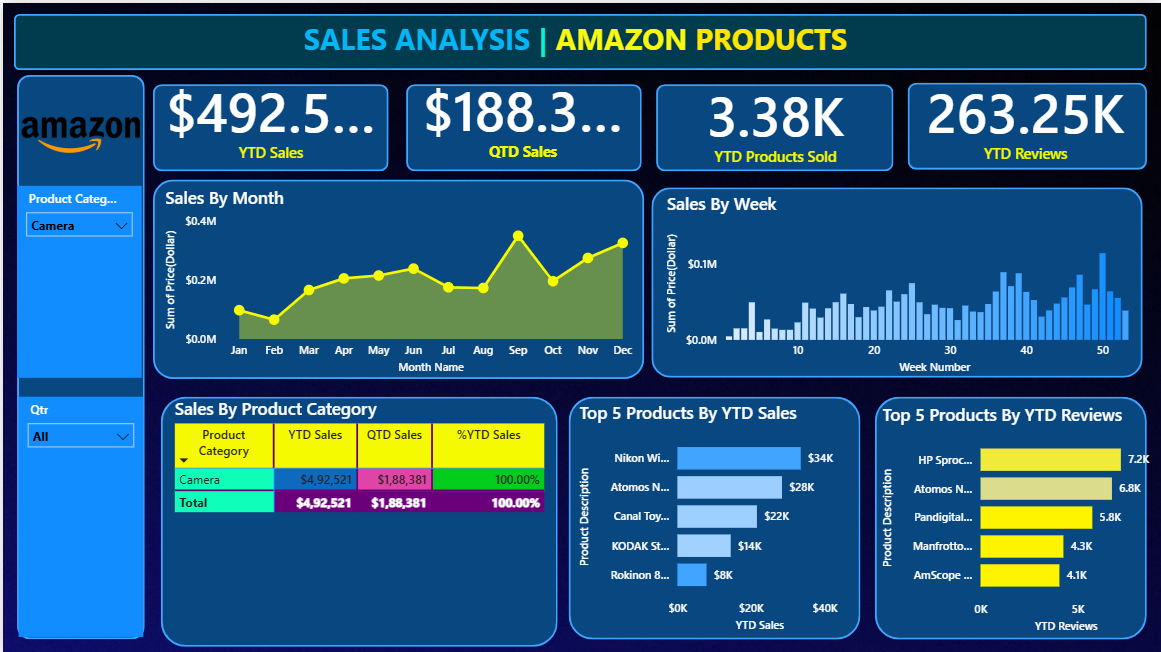

What the dashboard file says about the page in this screenshot:
{"tool":"powerbi","page":{"name":"Page 1","canvas":[1280,720],"ordinal":0},"visuals":[{"type":"shape","box":[12,12,1250,62],"z":0},{"type":"textbox","box":[15,12.5,1232.5,77.5],"z":1000},{"type":"shape","box":[15.3,79.8,140.9,622.9],"z":2000},{"type":"shape","box":[166,90,260,96],"z":3000},{"type":"card","fields":{"Values":["Amazon_Data.YTD Sales"]},"box":[166,68,260,118],"z":4000},{"type":"shape","box":[720,90,262,96],"z":5000},{"type":"shape","box":[444,90,260,96],"z":6000},{"type":"card","fields":{"Values":["Amazon_Data.QTD Sales"]},"box":[452,72,244,106],"z":7000},{"type":"shape","box":[998,88,264,96],"z":8000},{"type":"card","fields":{"Values":["Amazon_Data.YTD Products Sold"]},"box":[722,76,260,110],"z":9000},{"type":"card","fields":{"Values":["Amazon_Data.YTD Reviews"]},"box":[998,72,260,110],"z":10000},{"type":"shape","box":[166,194,542,220],"z":11000},{"type":"areaChart","title":"Sales By Month","fields":{"Category":["Date Table.Month Name"],"Y":["Sum(Amazon_Data.Price(Dollar))"]},"box":[174,202,530,212],"z":12000},{"type":"shape","box":[716,204,542,210],"z":13000},{"type":"columnChart","title":"Sales By Week","fields":{"Category":["Date Table.Week Number"],"Y":["Sum(Amazon_Data.Price(Dollar))"]},"box":[728,208,540,206],"z":14000},{"type":"shape","box":[174,434,438,276],"z":15000},{"type":"pivotTable","title":"Sales By Product Category ","fields":{"Rows":["Amazon_Data.Product Category"],"Values":["Amazon_Data.YTD Sales","Amazon_Data.QTD Sales","Amazon_Data.YTD Sales1"]},"box":[184,434,420,286],"z":16000},{"type":"shape","box":[624,434,322,268],"z":17000},{"type":"shape","box":[962,434,300,268],"z":18000},{"type":"clusteredBarChart","title":"Top 5 Products By YTD Sales","fields":{"Category":["Amazon_Data.Product Description"],"Y":["Amazon_Data.YTD Sales"]},"box":[631.2,439.1,314.1,259.4],"z":19000},{"type":"clusteredBarChart","title":"Top 5 Products By YTD Reviews","fields":{"Y":["Amazon_Data.YTD Reviews"],"Category":["Amazon_Data.Product Description"]},"box":[965.3,441.8,314.3,258.2],"z":20000},{"type":"slicer","fields":{"Values":["Amazon_Data.Product Category"]},"box":[15.3,202,137.5,212.1],"z":20501},{"type":"slicer","fields":{"Values":["Date Table.Qtr"]},"box":[17,434.5,137.5,264.8],"z":20502},{"type":"image","box":[15.3,83.2,140.9,125.6],"z":20503}]}

Visuals, with their boxes in screenshot pixels (x1, y1, x2, y2), scaled from the page's 1280x720 canvas onto the 1161x652 screenshot:
shape: x1=11, y1=11, x2=1145, y2=67
textbox: x1=14, y1=11, x2=1132, y2=82
shape: x1=14, y1=72, x2=142, y2=636
shape: x1=151, y1=82, x2=386, y2=168
card - Amazon_Data.YTD Sales: x1=151, y1=62, x2=386, y2=168
shape: x1=653, y1=82, x2=891, y2=168
shape: x1=403, y1=82, x2=639, y2=168
card - Amazon_Data.QTD Sales: x1=410, y1=65, x2=631, y2=161
shape: x1=905, y1=80, x2=1145, y2=167
card - Amazon_Data.YTD Products Sold: x1=655, y1=69, x2=891, y2=168
card - Amazon_Data.YTD Reviews: x1=905, y1=65, x2=1141, y2=165
shape: x1=151, y1=176, x2=642, y2=375
"Sales By Month" areaChart: x1=158, y1=183, x2=639, y2=375
shape: x1=649, y1=185, x2=1141, y2=375
"Sales By Week" columnChart: x1=660, y1=188, x2=1150, y2=375
shape: x1=158, y1=393, x2=555, y2=643
"Sales By Product Category " pivotTable: x1=167, y1=393, x2=548, y2=651
shape: x1=566, y1=393, x2=858, y2=636
shape: x1=873, y1=393, x2=1145, y2=636
"Top 5 Products By YTD Sales" clusteredBarChart: x1=573, y1=398, x2=857, y2=633
"Top 5 Products By YTD Reviews" clusteredBarChart: x1=876, y1=400, x2=1160, y2=634
slicer - Amazon_Data.Product Category: x1=14, y1=183, x2=139, y2=375
slicer - Date Table.Qtr: x1=15, y1=393, x2=140, y2=633
image: x1=14, y1=75, x2=142, y2=189
